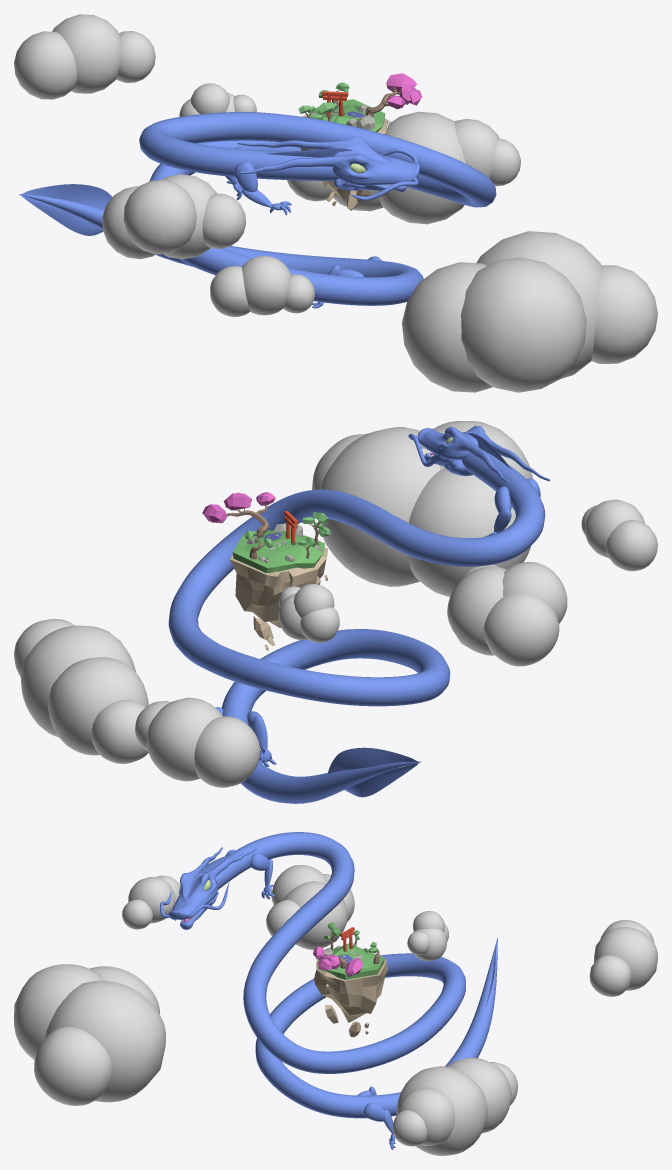
Rendered from ileDragon.glb.
3 renders of one model, top to bottom at view 1: azimuth 30°, elevation 25°; view 2: azimuth 150°, elevation 25°; view 3: azimuth 270°, elevation 25°, orthographic. The views are drawn at different scales.
Visible parts, largest first — view 1: Object_20, Object_12, Object_17, Object_5, Object_15, Object_9; view 2: Object_20, Object_12, Object_15, Object_5, Object_17, Object_9, Object_8; view 3: Object_20, Object_12, Object_15, Object_5, Object_17.
Boxes of the visible parts, x1,y1,x2,y2 form: Object_20: [14, 14, 657, 392]; Object_12: [18, 112, 496, 308]; Object_17: [386, 73, 421, 184]; Object_5: [308, 99, 385, 132]; Object_15: [300, 114, 388, 210]; Object_9: [298, 82, 358, 122]; Object_20: [14, 421, 657, 787]; Object_12: [168, 425, 549, 803]; Object_15: [230, 547, 327, 650]; Object_5: [232, 530, 324, 572]; Object_17: [202, 453, 434, 523]; Object_9: [244, 512, 330, 547]; Object_8: [226, 504, 320, 559]; Object_20: [14, 865, 657, 1155]; Object_12: [160, 832, 497, 1149]; Object_15: [314, 958, 387, 1037]; Object_5: [318, 943, 384, 979]; Object_17: [184, 918, 362, 976].
Size of the model in its own units: 8.58 by 5.03 by 12.94.
